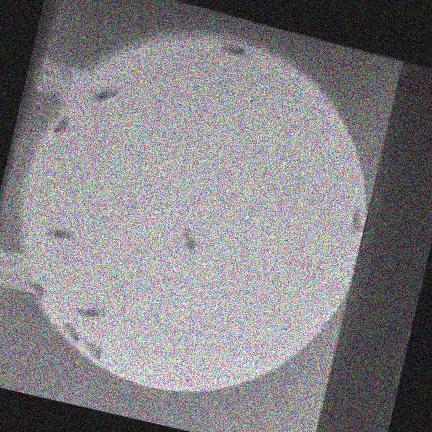fly: (91, 88, 118, 101), (223, 43, 247, 57), (54, 114, 69, 135), (184, 228, 196, 254), (48, 228, 75, 239), (29, 280, 46, 297), (79, 307, 105, 318), (65, 323, 80, 341), (86, 341, 102, 357), (352, 209, 363, 232)
